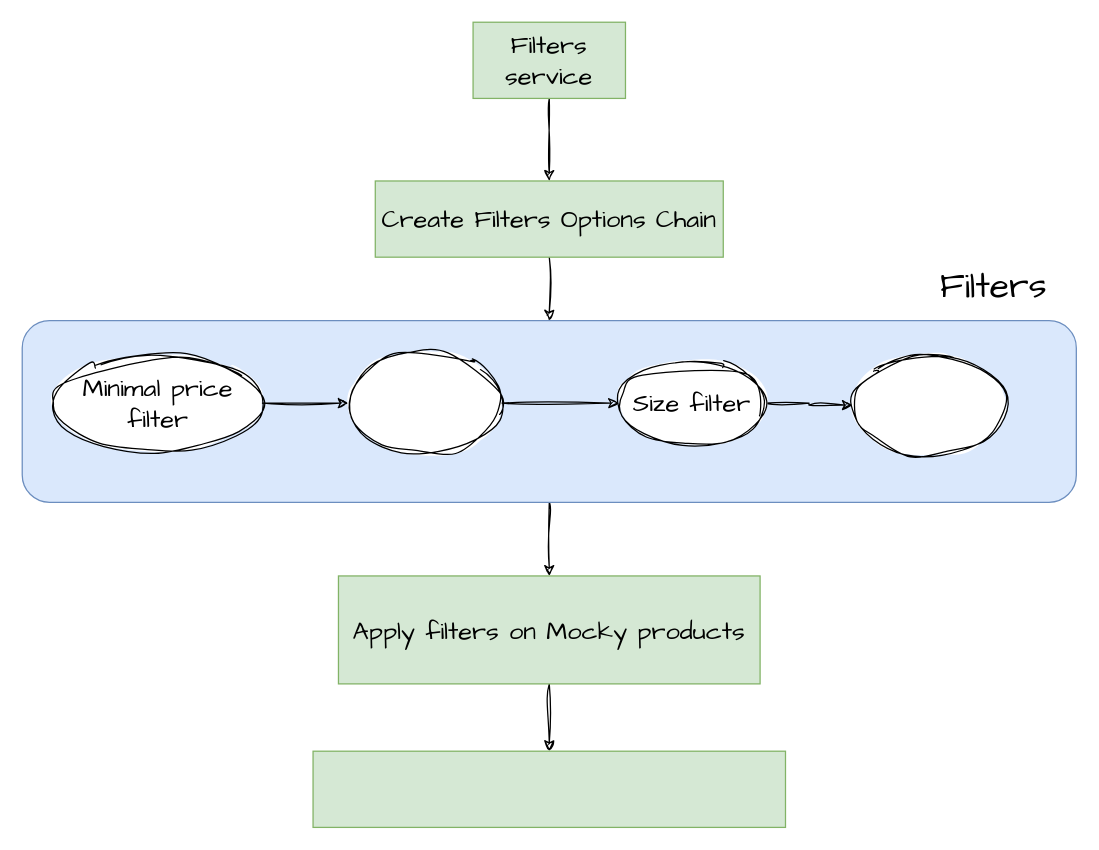
Image size: 1099x850. Some labels were removed from this diagram. The centre of each missing label's shape, as x and y in pixels:
Highlight colors: point (928, 404)
Maximal price filter: point (424, 402)
Return new collection of filtered data: point (548, 788)
